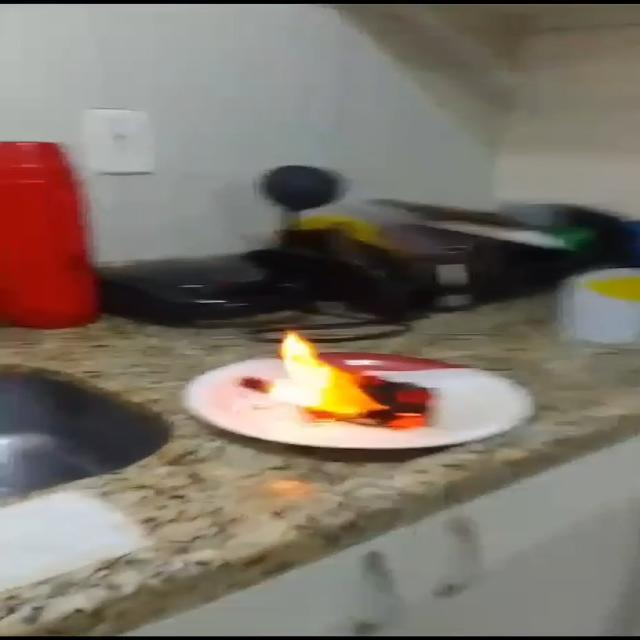fogo-ypXI: (267, 327, 438, 430)
